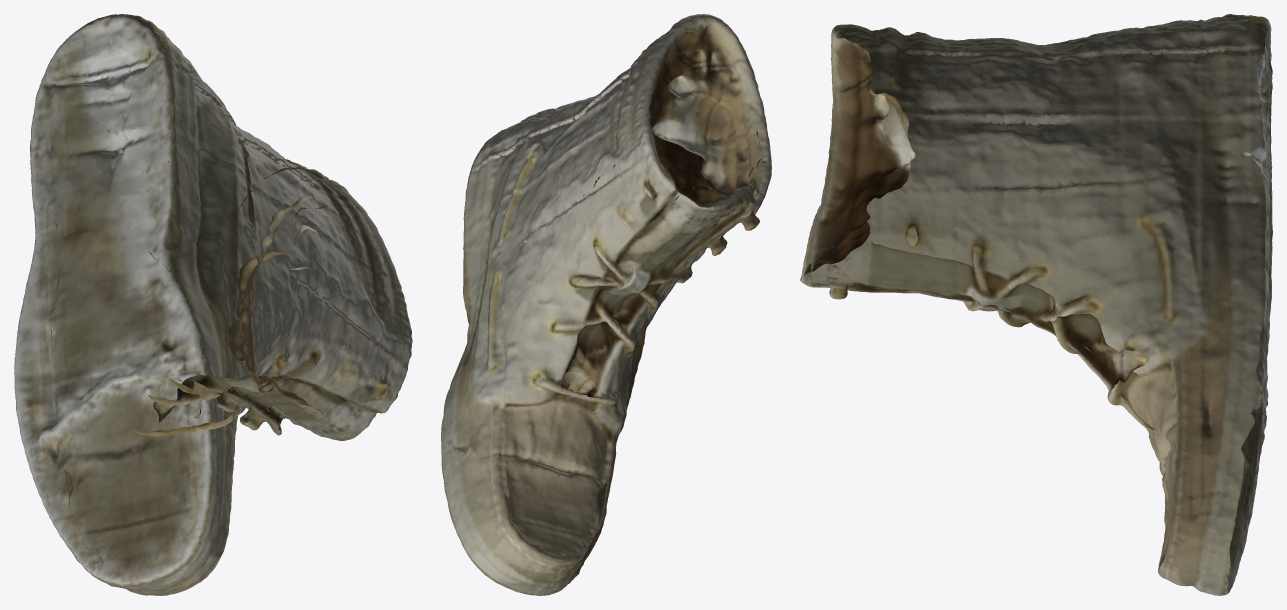
File: shoe1.glb
3 renders of one model, left to right at view 1: azimuth 30°, elevation 25°; view 2: azimuth 150°, elevation 25°; view 3: azimuth 270°, elevation 25°, orthographic. The views are drawn at different scales.
Size of the model in its own units: 0.3668 by 1 by 0.7733.
